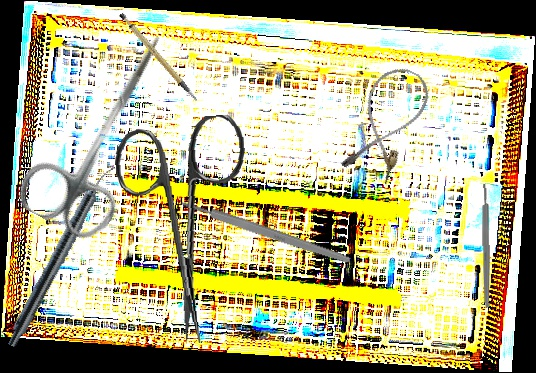Cannula: (336, 59, 437, 187)
Handpiece: (4, 160, 118, 351)
Iris Scissors: (10, 12, 198, 247), (111, 113, 262, 349)
Scalpel Handle: (179, 196, 353, 267), (117, 4, 199, 112), (481, 183, 491, 308)
